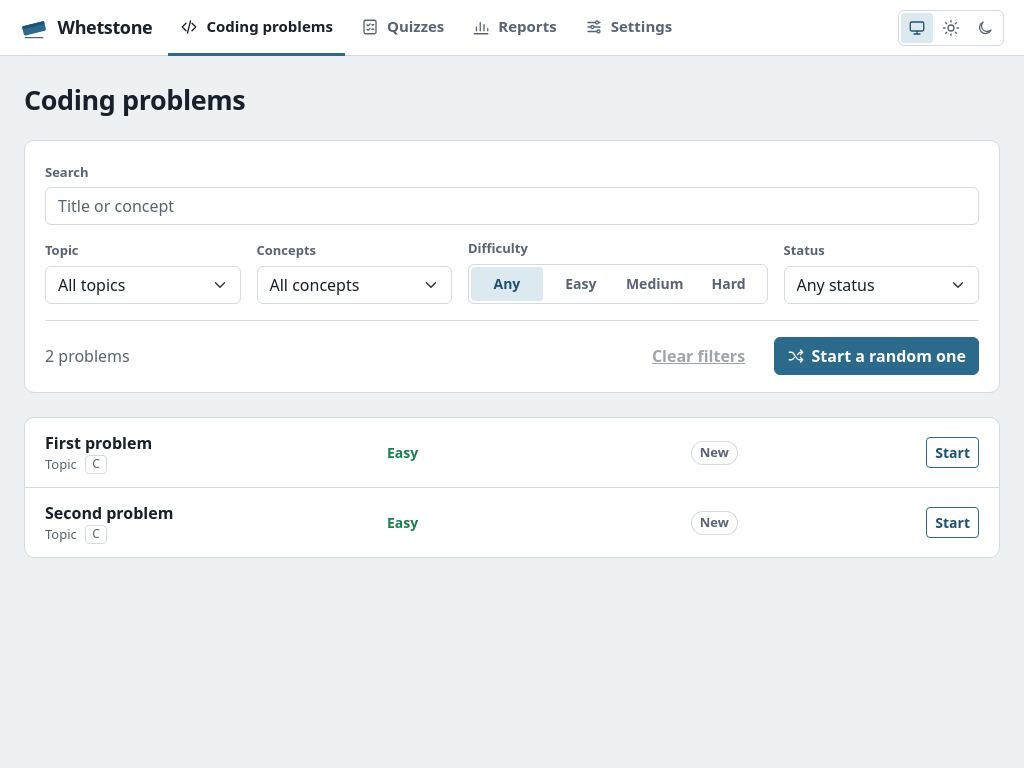
it: App › shows only the first line of an error in the tests module
Click the button with aria-label "Start First problem" at coordinates (953, 453), box x1=926 y1=437 x2=979 y2=468
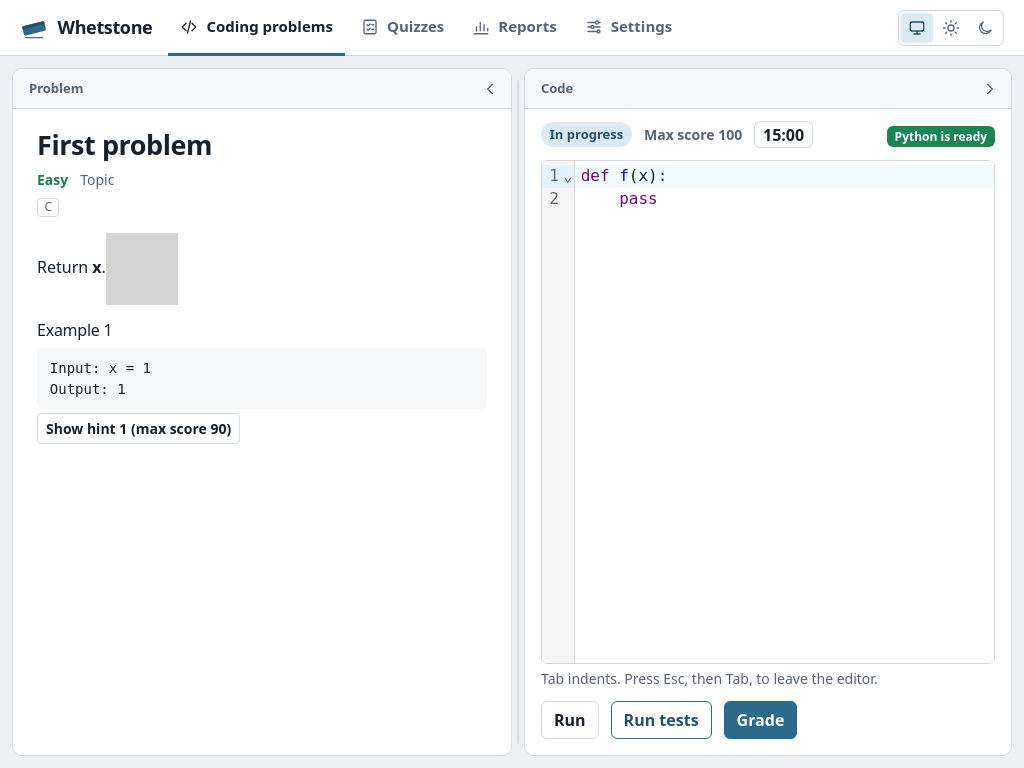
Click the button "Grade" at coordinates (760, 720), box x1=724 y1=701 x2=797 y2=739
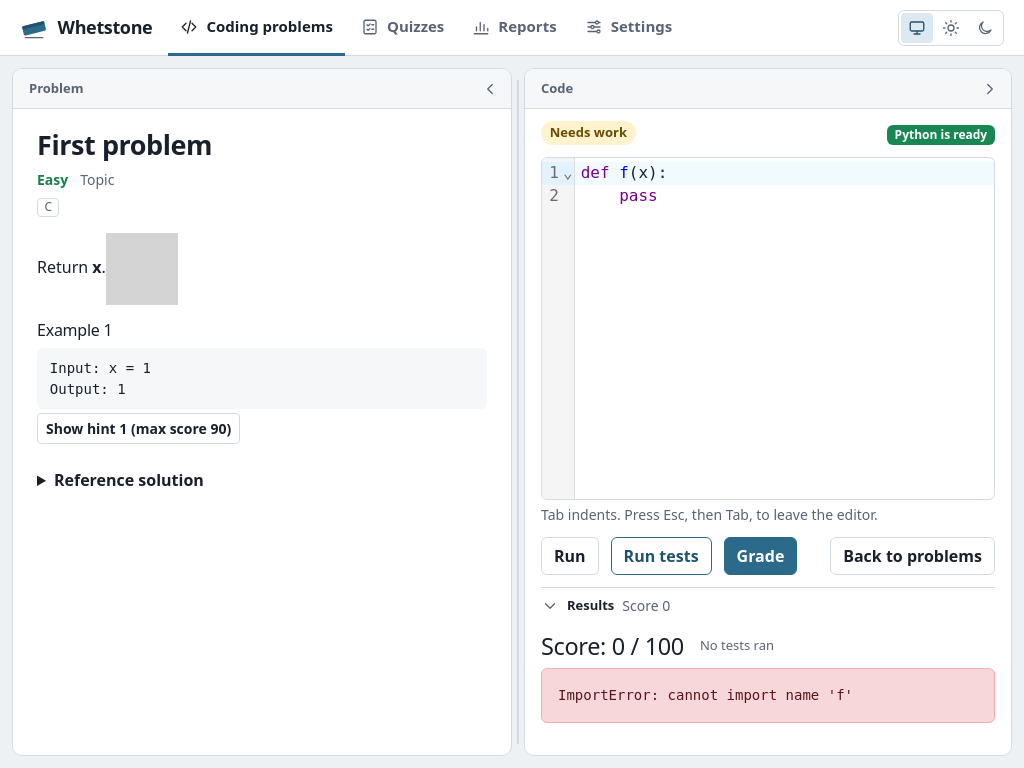
Expected: the element named "Grade" does not show "hidden_tests.py", x1=541 y1=632 x2=995 y2=723
Now the element named "Grade" shows "ImportError: cannot import name 'f'", box x1=558 y1=687 x2=853 y2=703
